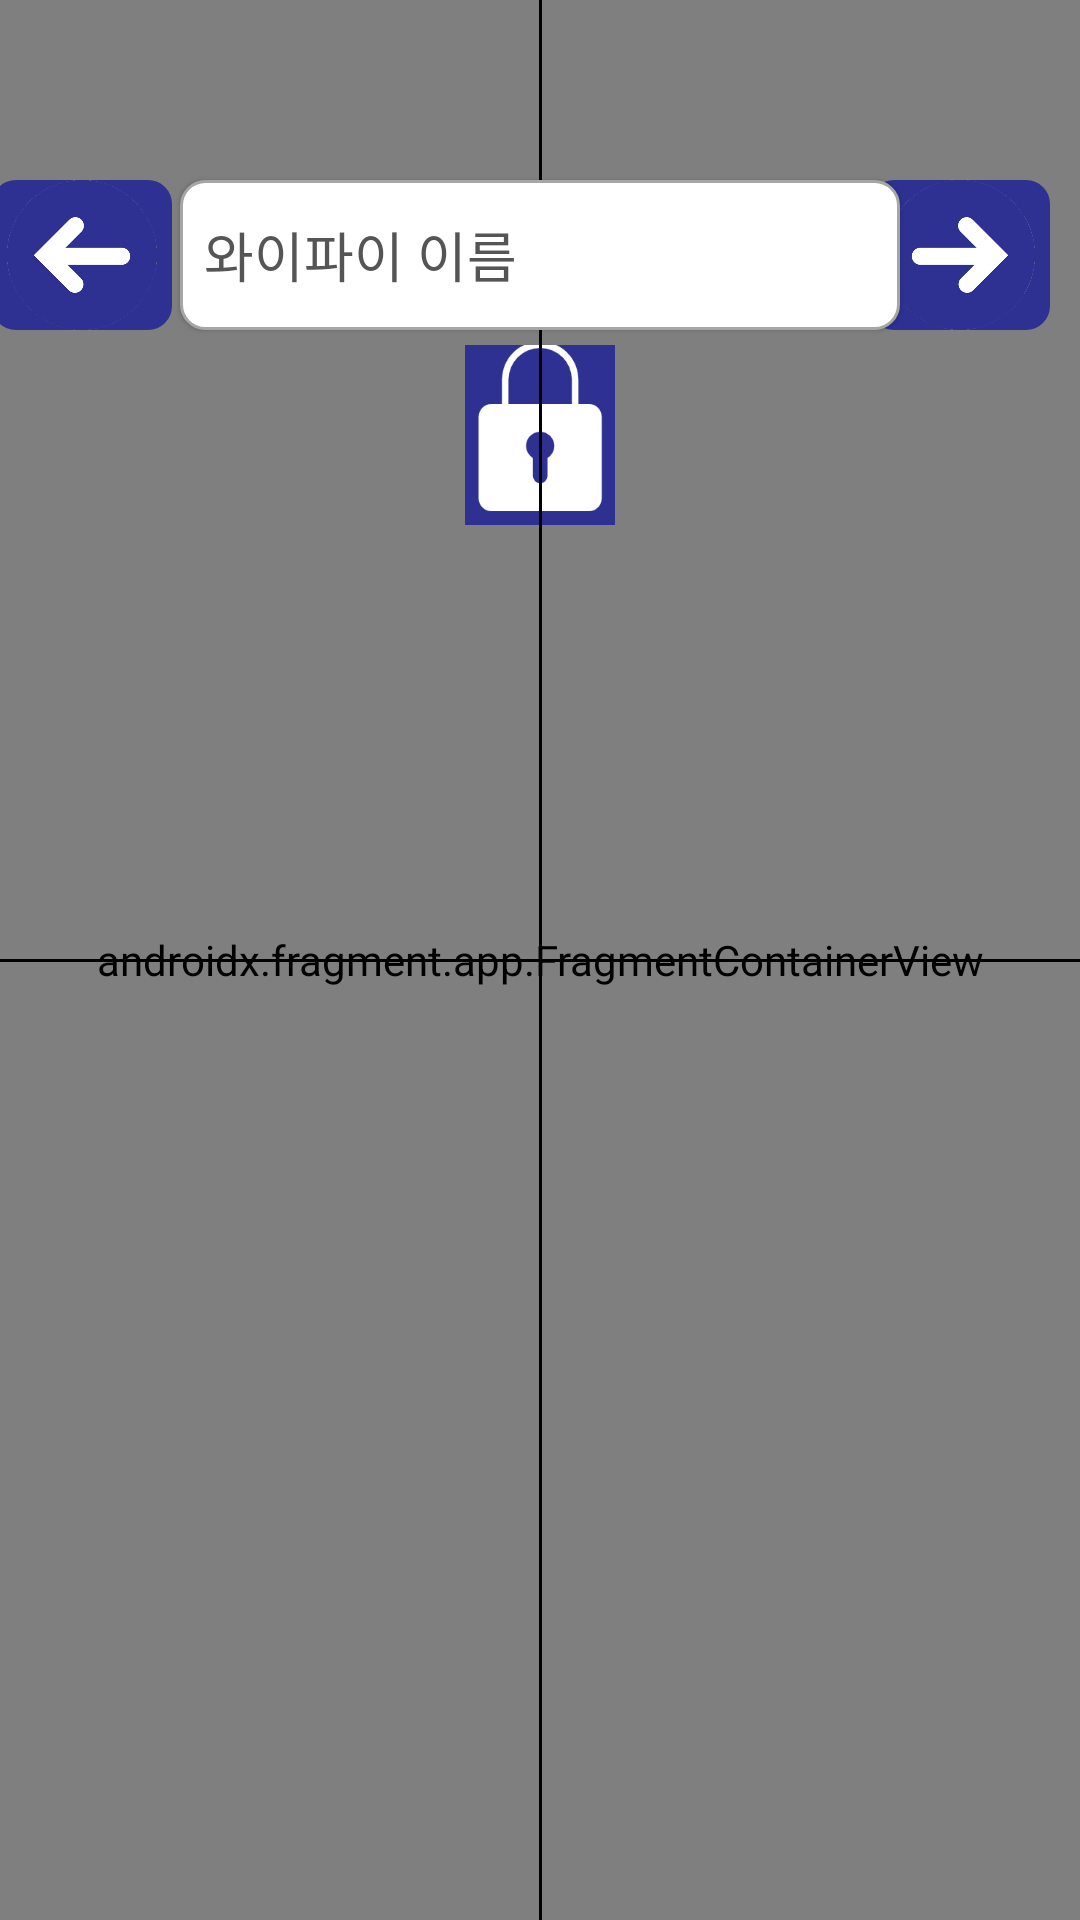

Icons on this 1080 × 1920 Android screen, each with its box as (x1, y1, x2, y2):
back buttom: (0, 180, 172, 330)
front: (870, 180, 1050, 330)
lock: (465, 345, 615, 525)
